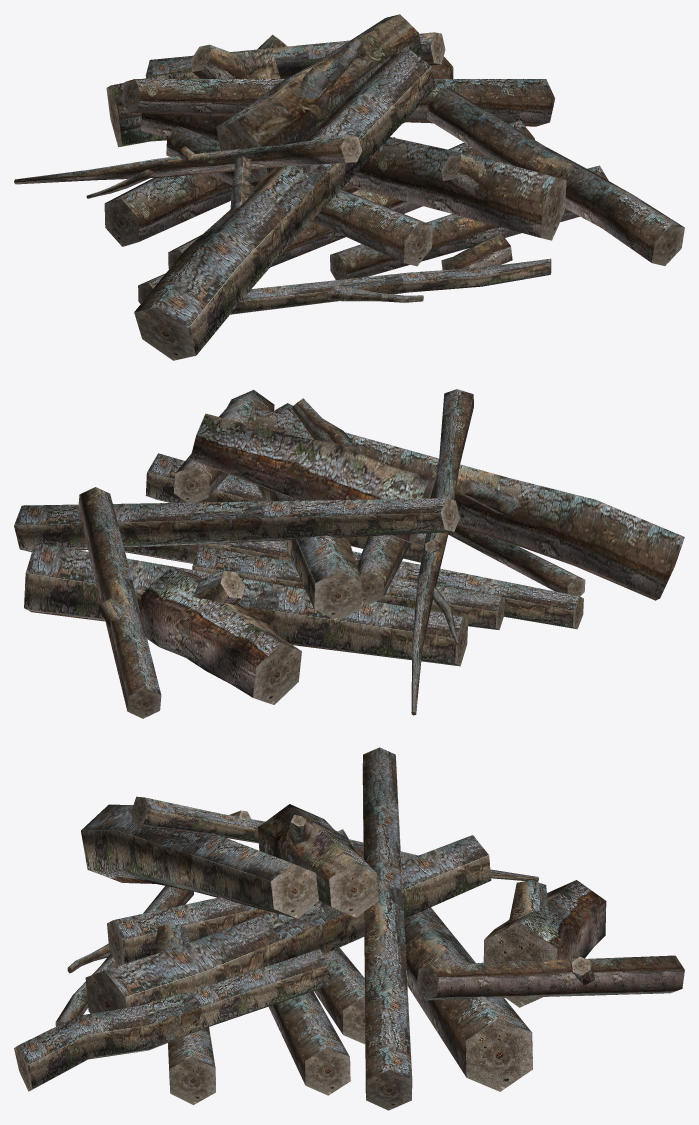
The model's file is Prop_Pve01Mudui01.glb.
The picture shows the model from 3 angles, top to bottom: view 1: azimuth 30°, elevation 25°; view 2: azimuth 150°, elevation 25°; view 3: azimuth 270°, elevation 25°; orthographic projection. The views are drawn at different scales.
Visible parts, largest first — view 1: pve01_mudui_01; view 2: pve01_mudui_01; view 3: pve01_mudui_01.
Part boxes in pixels (x1,y1,x2,y2): pve01_mudui_01: (14, 14, 684, 360); pve01_mudui_01: (14, 389, 684, 718); pve01_mudui_01: (14, 747, 684, 1110).
Size of the model in its own units: 1.85 by 0.6518 by 1.94.
1 material, 1 textured.
